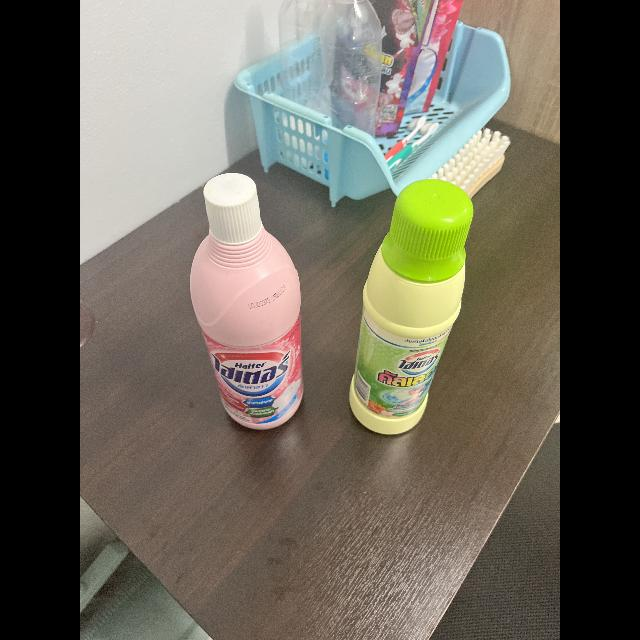chemical_plastic_bottle: (338, 174, 484, 440), (187, 169, 306, 435)
